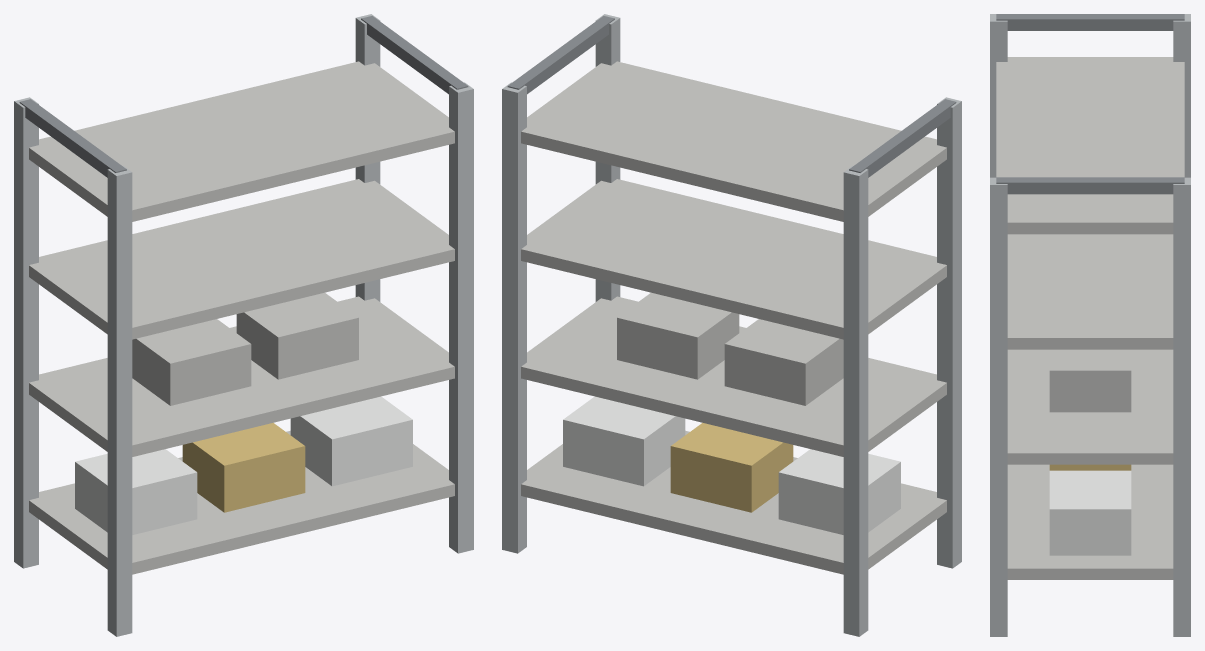
File: P_material_rack.fbx
3 renders of one model, left to right at view 1: azimuth 30°, elevation 25°; view 2: azimuth 150°, elevation 25°; view 3: azimuth 270°, elevation 25°, orthographic.
Visible parts, largest first — view 1: P_material_rack; view 2: P_material_rack; view 3: P_material_rack.
Part boxes in pixels (x1,y1,x2,y2): P_material_rack: (14, 14, 473, 636); P_material_rack: (502, 14, 961, 636); P_material_rack: (990, 14, 1190, 636).
Bounding box in the file's own units: 1.59 × 1.97 × 0.79.
